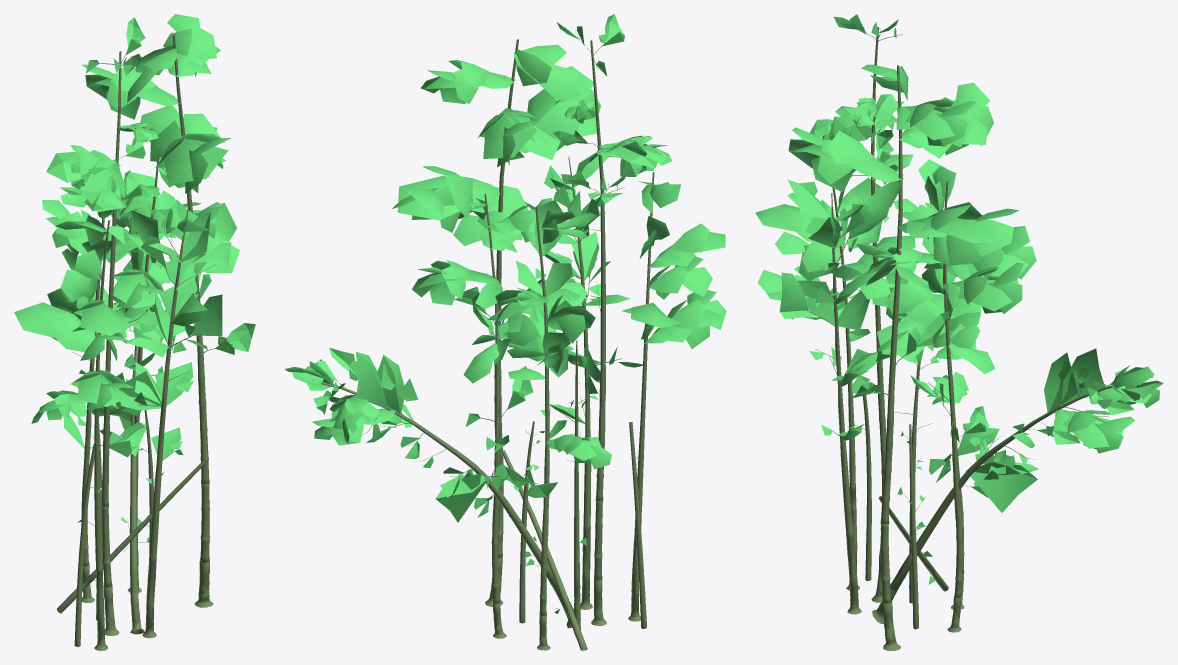
The model's file is Bamboo_Cluster1_LOD0.fbx.
3 views of the same model, side by side, from view 1: azimuth 30°, elevation 25°; view 2: azimuth 150°, elevation 25°; view 3: azimuth 270°, elevation 25° (orthographic).
Parts seen in each view (by area): view 1: Bamboo_Cluster1_LOD0; view 2: Bamboo_Cluster1_LOD0; view 3: Bamboo_Cluster1_LOD0.
Boxes of the visible parts, <box> form: Bamboo_Cluster1_LOD0: <box>14,14,255,650</box>; Bamboo_Cluster1_LOD0: <box>284,14,726,650</box>; Bamboo_Cluster1_LOD0: <box>755,14,1163,650</box>.
Bounding box in the file's own units: 1437 × 3075 × 1877.
